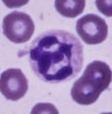N: (28, 30, 84, 84)
